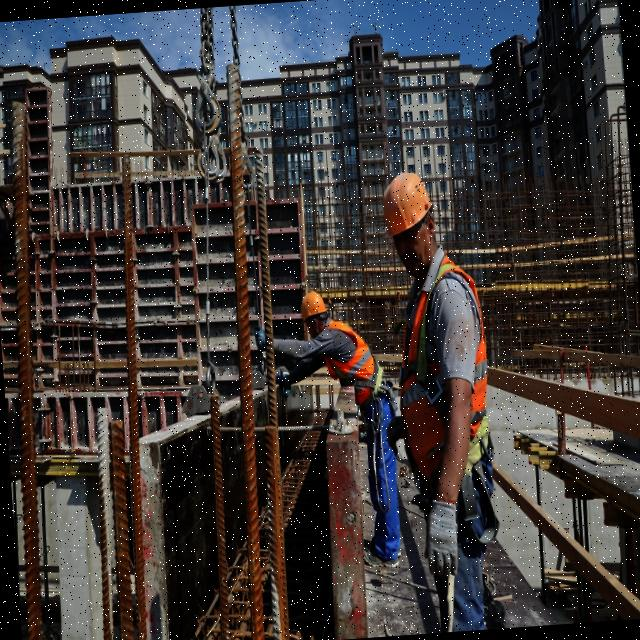Helmet: (379, 171, 436, 244), (297, 291, 329, 328)
Jacket: (397, 267, 494, 485), (323, 322, 376, 404)
